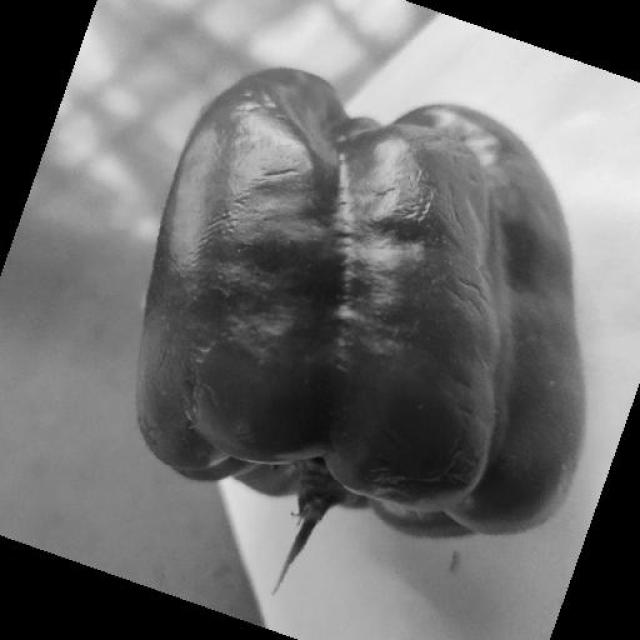Stale_Capsicum: (157, 88, 559, 590)
